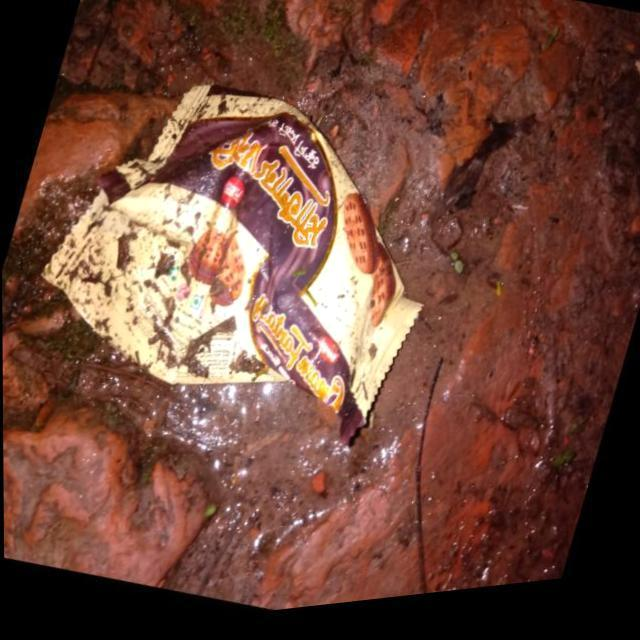packet: (13, 56, 461, 535)
